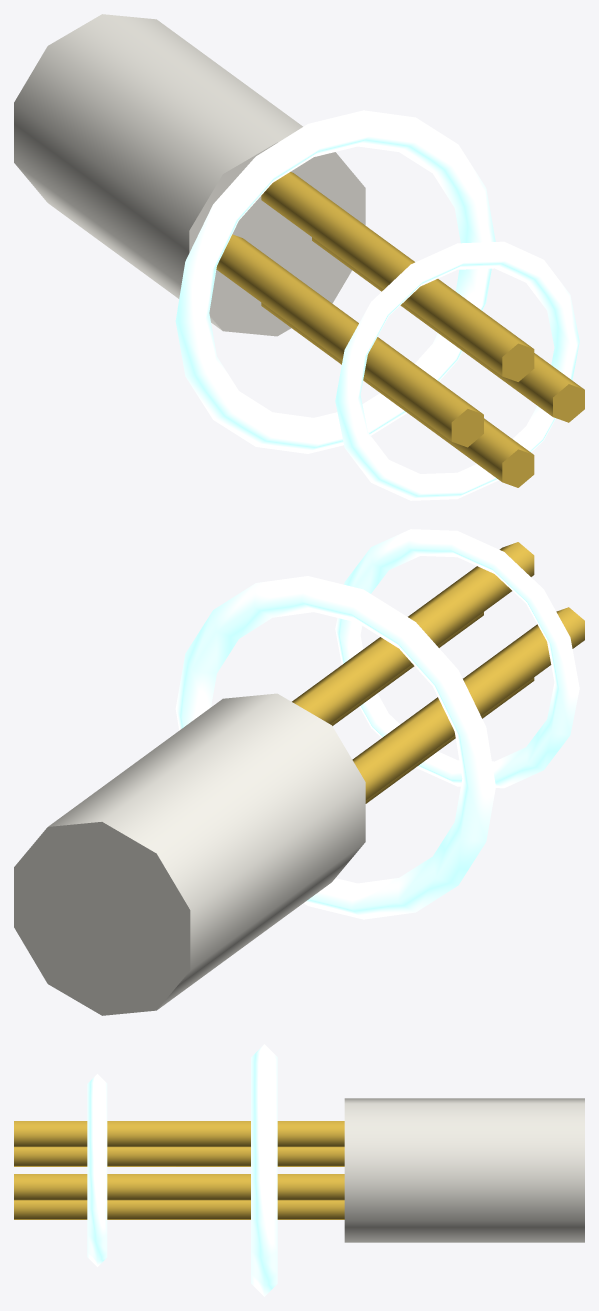
Rendered from wpn_alpha_halo.glb.
3 views of the same model, one above another, from view 1: azimuth 30°, elevation 25°; view 2: azimuth 150°, elevation 25°; view 3: azimuth 270°, elevation 25° (orthographic). The views are drawn at different scales.
Visible parts, largest first — view 1: weapon, barrels; view 2: weapon, barrels; view 3: weapon, barrels.
Boxes of the visible parts, <box> form: weapon: <box>14,14,579,500</box>; barrels: <box>216,172,584,487</box>; weapon: <box>14,529,579,1015</box>; barrels: <box>292,542,584,803</box>; weapon: <box>87,1044,584,1296</box>; barrels: <box>14,1121,344,1219</box>.
Bounding box in the file's own units: 0.38 × 0.3742 × 0.855.
